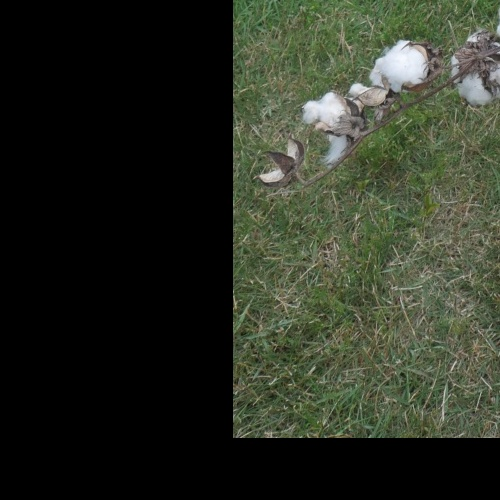immature_boll: (248, 129, 313, 201)
mature_boll: (305, 44, 500, 166)
